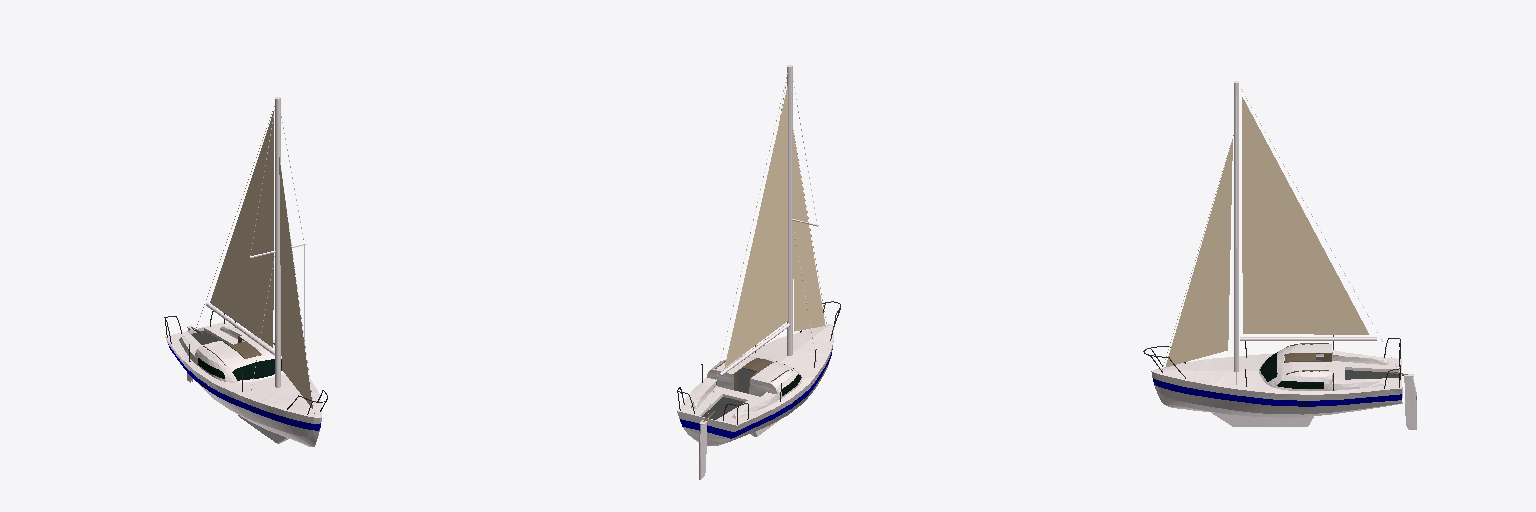
The model's file is Sailboat.obj.
3 views of the same model, side by side, from view 1: azimuth 30°, elevation 25°; view 2: azimuth 150°, elevation 25°; view 3: azimuth 270°, elevation 25° (orthographic).
Size of the model in its own units: 1.88 by 7.33 by 5.22.